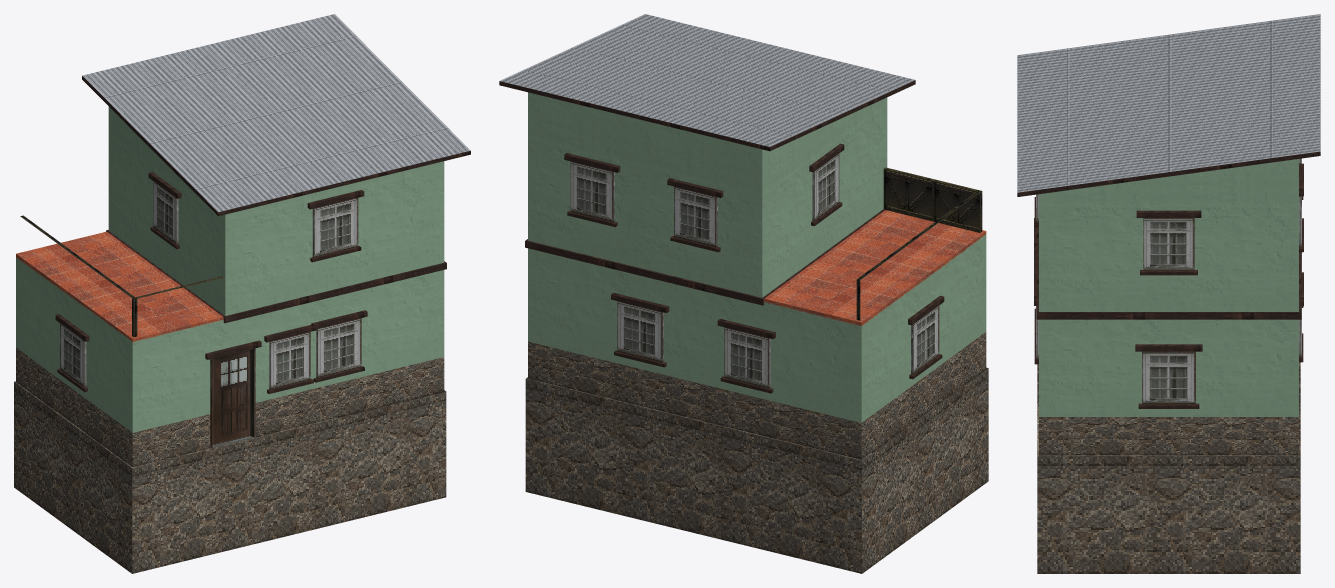
The model's file is 16_andina2p_menta_retranqueo.glb.
3 views of the same model, side by side, from view 1: azimuth 30°, elevation 25°; view 2: azimuth 150°, elevation 25°; view 3: azimuth 270°, elevation 25° (orthographic). The views are drawn at different scales.
Visible parts, largest first — view 1: 16_andina2p_menta_retranqueo; view 2: 16_andina2p_menta_retranqueo; view 3: 16_andina2p_menta_retranqueo.
Boxes of the visible parts, x1=… form: 16_andina2p_menta_retranqueo: x1=14, y1=14, x2=470, y2=573; 16_andina2p_menta_retranqueo: x1=499, y1=14, x2=988, y2=573; 16_andina2p_menta_retranqueo: x1=1017, y1=14, x2=1320, y2=573.
Size of the model in its own units: 7.89 by 8.77 by 5.6.
Materials: 8 (8 with a texture image).
